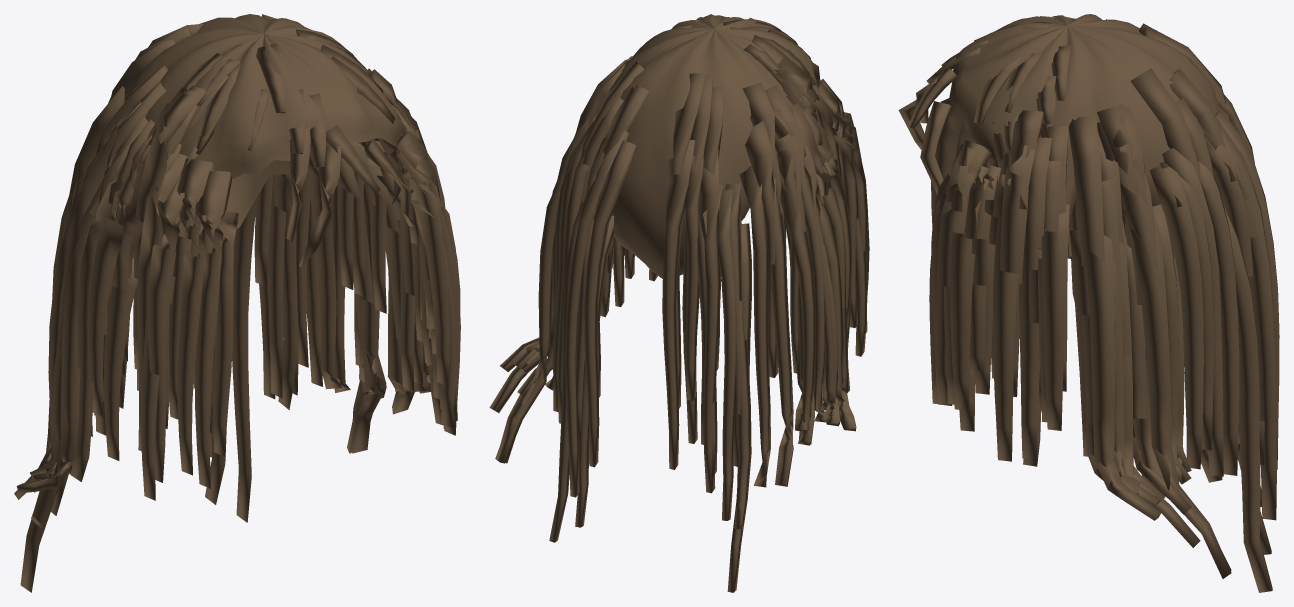
File: Char2_HairLong.fbx
3 views of the same model, side by side, from view 1: azimuth 30°, elevation 25°; view 2: azimuth 150°, elevation 25°; view 3: azimuth 270°, elevation 25° (orthographic). The views are drawn at different scales.
Visible parts, largest first — view 1: Char2_HairLong; view 2: Char2_HairLong; view 3: Char2_HairLong.
Part boxes in pixels (x1,y1,x2,y2): Char2_HairLong: (14,14,460,592); Char2_HairLong: (489,14,869,592); Char2_HairLong: (898,14,1279,592).
Bounding box in the file's own units: 0.3006 × 0.3968 × 0.2542.
